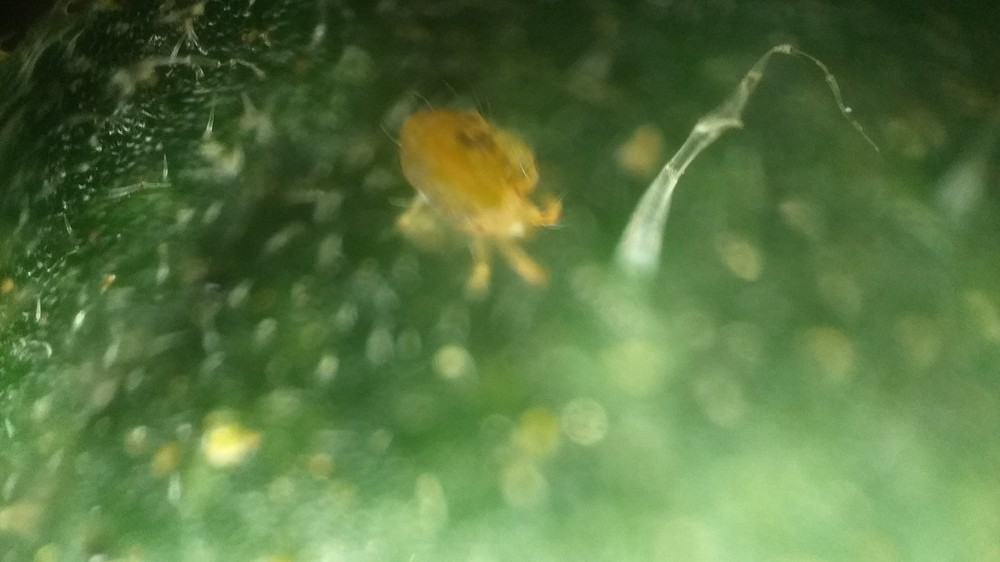Aracnido Rojo: (352, 78, 598, 337)
